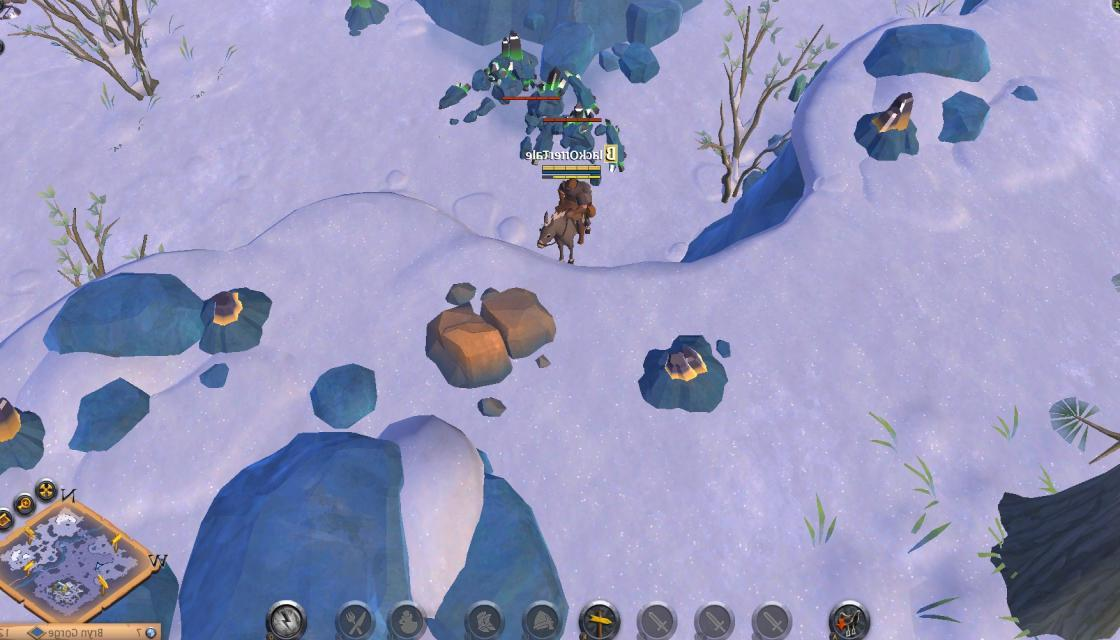copperore: (640, 326, 728, 412), (850, 89, 930, 162), (196, 282, 272, 354), (0, 396, 48, 474)
limestone: (414, 276, 560, 389)
tinore: (484, 30, 536, 92), (339, 0, 388, 32)
